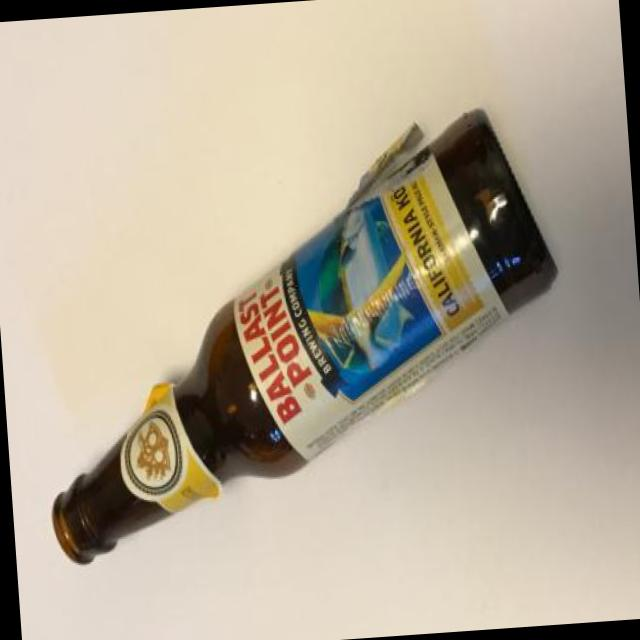chai_thuy_tinh: (52, 108, 558, 564)
